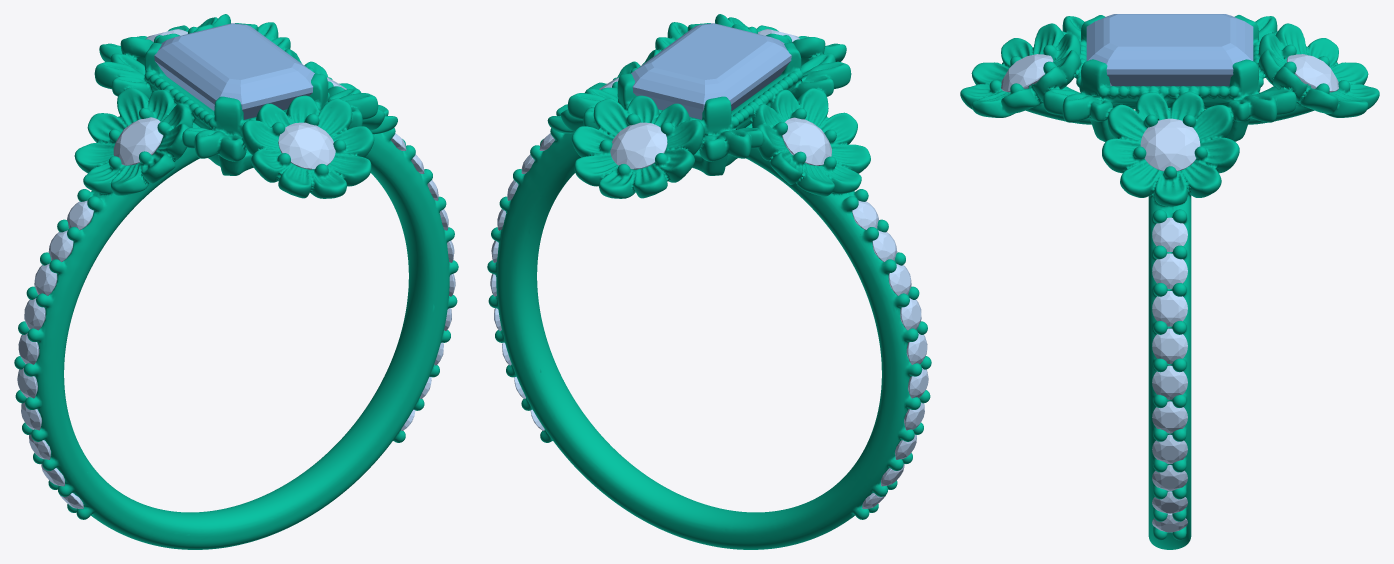
The model's file is emerald-cut-flower-ring.glb.
The picture shows the model from 3 angles, left to right: view 1: azimuth 30°, elevation 25°; view 2: azimuth 150°, elevation 25°; view 3: azimuth 270°, elevation 25°; orthographic projection.
Visible parts, largest first — view 1: MESH_FILE, Diamond_Emerald (×2), Diamond_Round (×2), GemOnCrv (×3); view 2: MESH_FILE, Diamond_Emerald (×2), Diamond_Round (×2), GemOnCrv (×3); view 3: MESH_FILE, Diamond_Emerald (×2), GemOnCrv (×9), Diamond_Round (×3).
Boxes of the visible parts, x1,y1,x2,y2 form: MESH_FILE: (14, 14, 458, 549); Diamond_Emerald (×2): (154, 23, 314, 119); Diamond_Round (×2): (113, 117, 335, 169); GemOnCrv (×3): (34, 200, 93, 295); MESH_FILE: (487, 14, 931, 549); Diamond_Emerald (×2): (631, 23, 791, 119); Diamond_Round (×2): (610, 117, 831, 169); GemOnCrv (×3): (852, 200, 911, 295); MESH_FILE: (960, 15, 1379, 549); Diamond_Emerald (×2): (1086, 14, 1253, 86); GemOnCrv (×9): (1152, 217, 1187, 513); Diamond_Round (×3): (1001, 54, 1338, 171).
Bounding box in the file's own units: 2.37 × 2.56 × 1.96.
